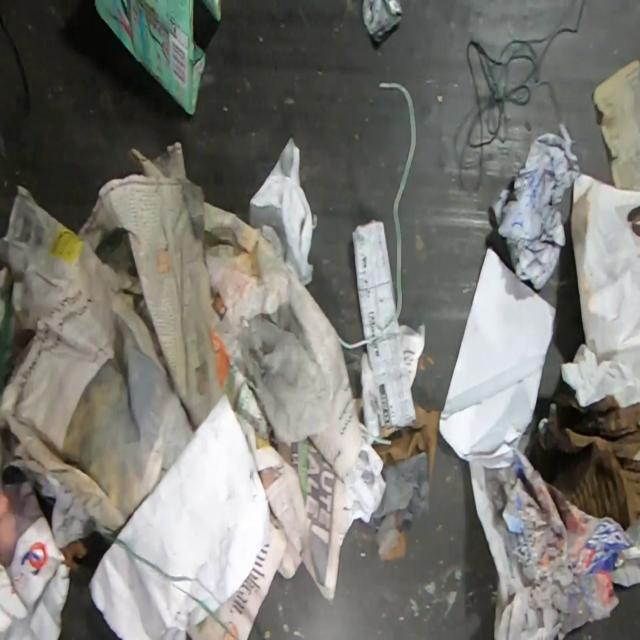cardboard: (524, 394, 640, 532), (96, 0, 220, 113)
